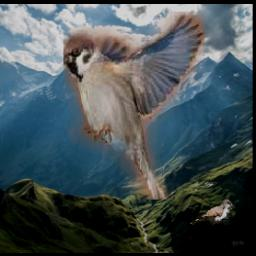Cuckoo: (189, 200, 234, 226)
Sparrow: (62, 13, 203, 201)
